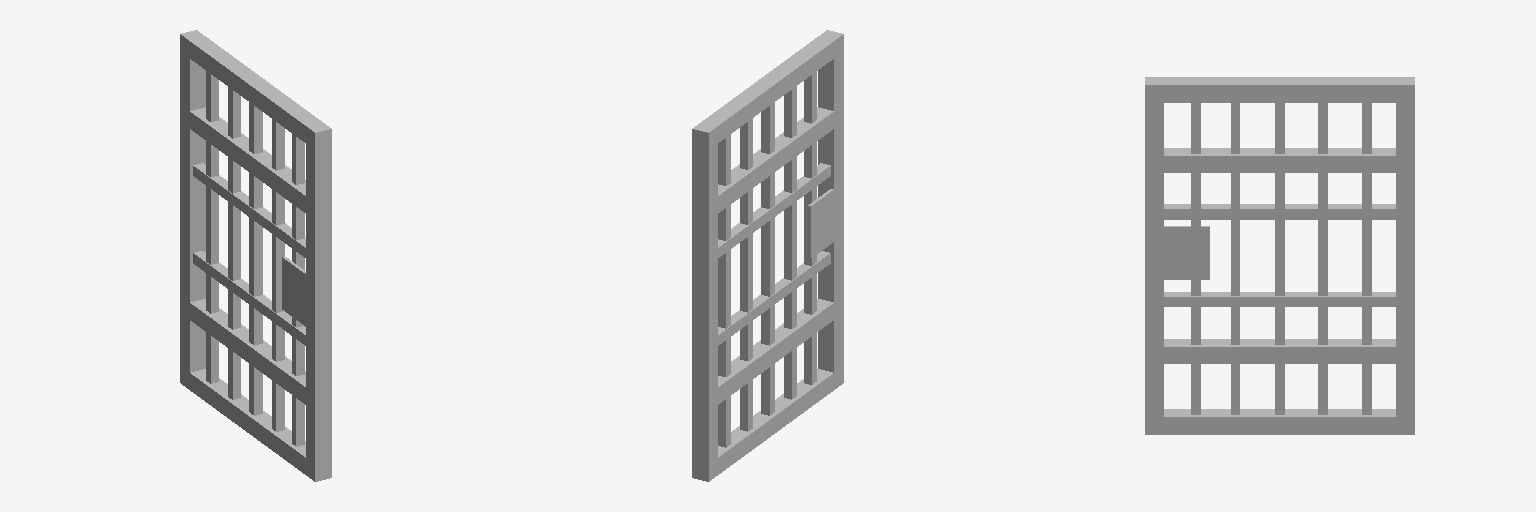
Rendered from puertaCelda4.obj.
3 renders of one model, left to right at view 1: azimuth 30°, elevation 25°; view 2: azimuth 150°, elevation 25°; view 3: azimuth 270°, elevation 25°, orthographic.
Parts seen in each view (by area): view 1: PuertaCelda_1.001_PuertaCelda_1_Cube.001; view 2: PuertaCelda_1.001_PuertaCelda_1_Cube.001; view 3: PuertaCelda_1.001_PuertaCelda_1_Cube.001.
Boxes of the visible parts, x1,y1,x2,y2 form: PuertaCelda_1.001_PuertaCelda_1_Cube.001: [180, 30, 331, 481]; PuertaCelda_1.001_PuertaCelda_1_Cube.001: [692, 30, 843, 481]; PuertaCelda_1.001_PuertaCelda_1_Cube.001: [1145, 77, 1414, 434].
Size of the model in its own units: 0.1904 by 3.81 by 2.67.